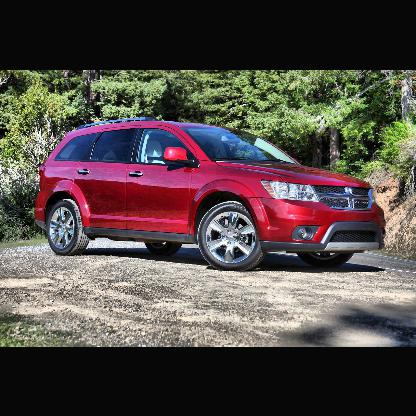Dodge Journey SUV 2012: (35, 123, 388, 272)
